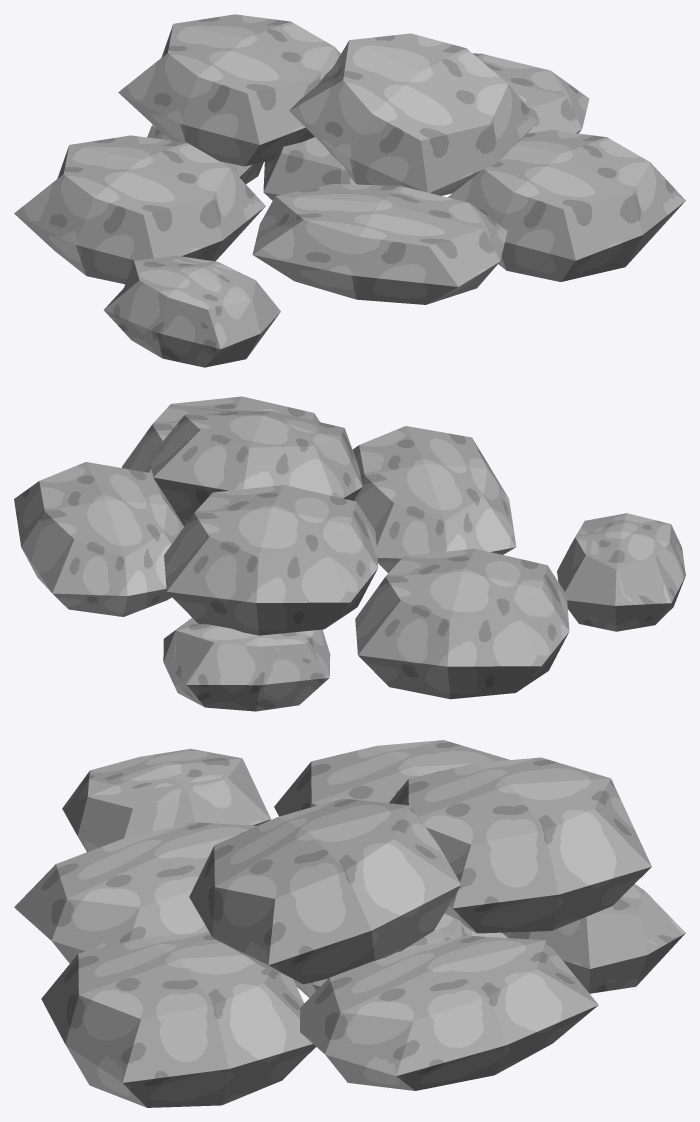
Rendered from stoneWorkshopMaterial2.fbx.
The picture shows the model from 3 angles, top to bottom: view 1: azimuth 30°, elevation 25°; view 2: azimuth 150°, elevation 25°; view 3: azimuth 270°, elevation 25°; orthographic projection. The views are drawn at different scales.
Visible parts, largest first — view 1: Pebble.005; view 2: Pebble.005; view 3: Pebble.005.
Boxes of the visible parts, x1,y1,x2,y2 form: Pebble.005: [14, 14, 685, 367]; Pebble.005: [14, 396, 685, 711]; Pebble.005: [14, 740, 685, 1107].
Size of the model in its own units: 76.03 by 21.77 by 65.71.
Materials: 6 (6 with a texture image).
